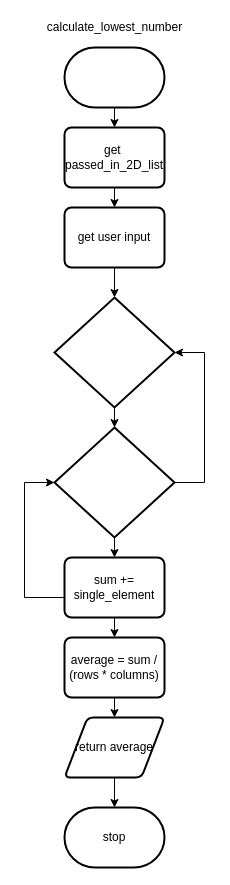
Some shapes in this 230 by 885 pixel diagram are drawn without their labels. Each missing label, with the centre of its shape:
"for single_element in row_value" belongs at (114,482).
"row_value in passed_in_2D_list" belongs at (114,352).
"start" belongs at (114,77).
